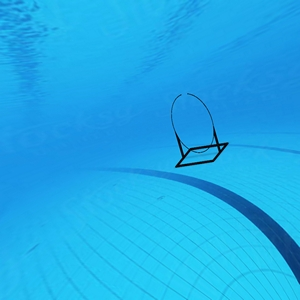circle: (167, 92, 229, 169)
